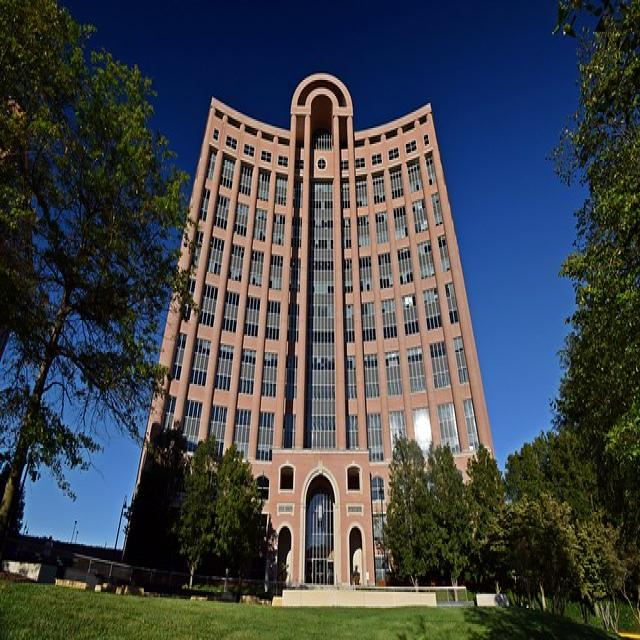building: (120, 68, 504, 600)
